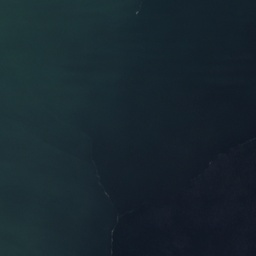Marine Debris: (88, 150, 122, 256), (208, 161, 213, 167)
